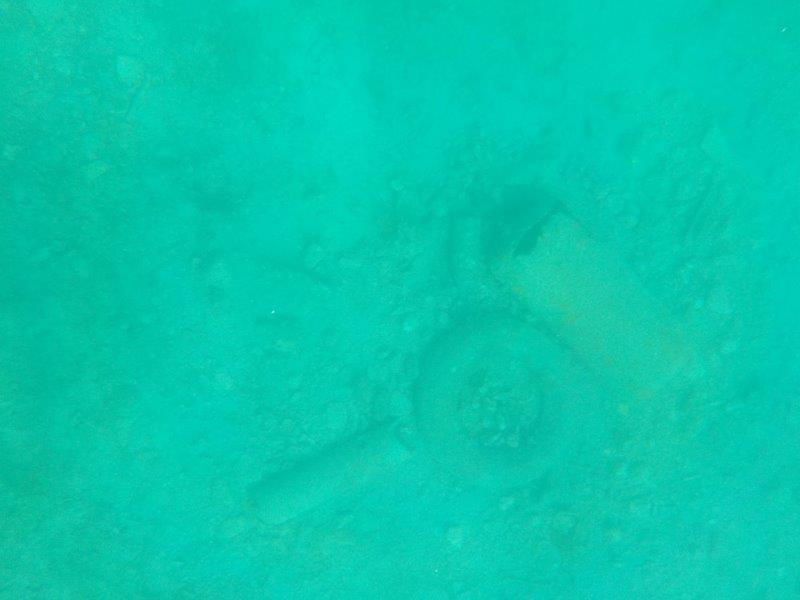bottle: (437, 205, 489, 298)
tire: (409, 309, 581, 493)
